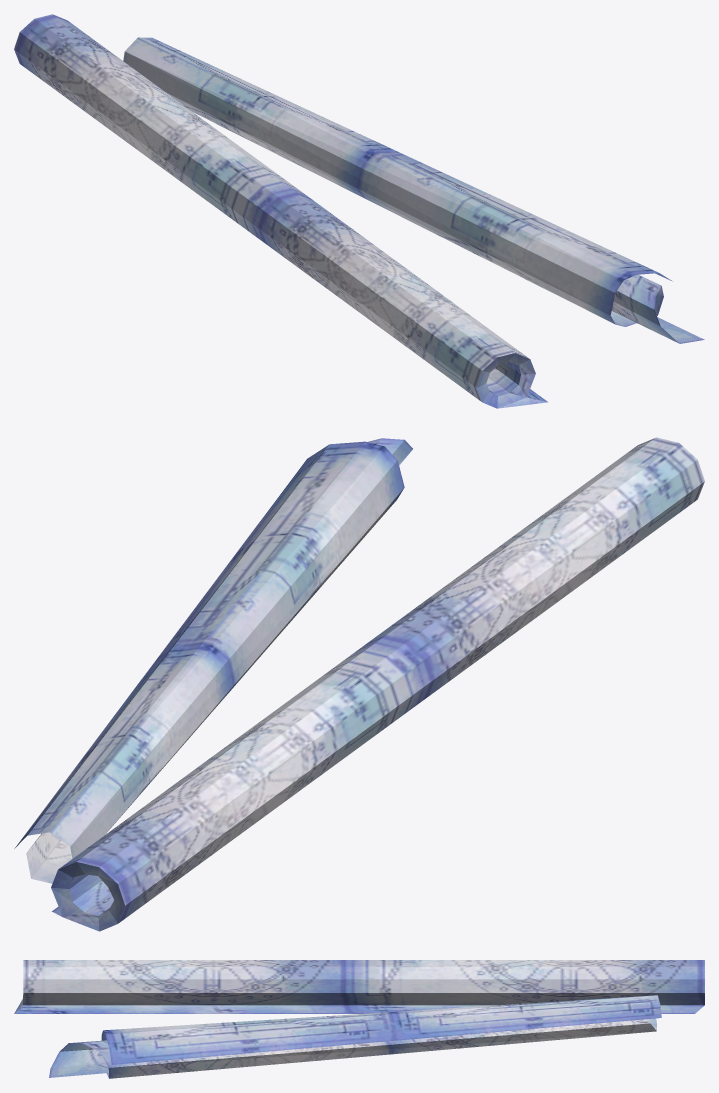
The model's file is A-CM_X360_PROP_Blueprint_Rolls.obj.
3 renders of one model, top to bottom at view 1: azimuth 30°, elevation 25°; view 2: azimuth 150°, elevation 25°; view 3: azimuth 270°, elevation 25°, orthographic. The views are drawn at different scales.
Bounding box in the file's own units: 0.2944 × 0.0594 × 0.9287.
1 material, 1 textured.
